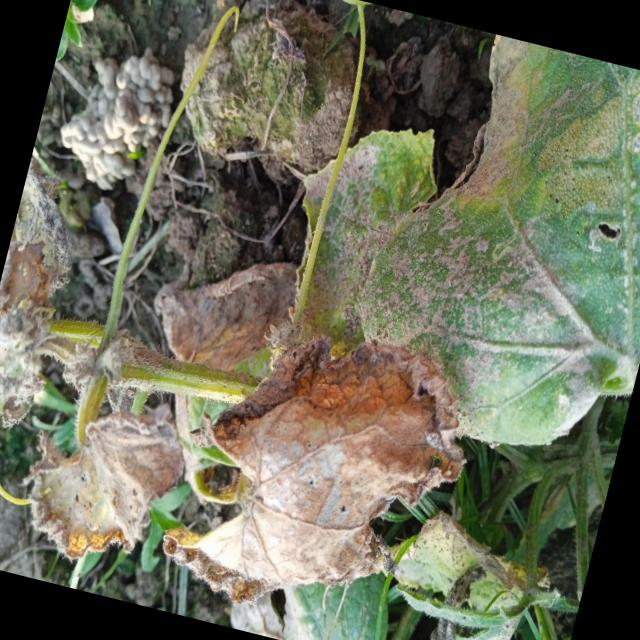cucumber_bacterial: (188, 106, 504, 624), (344, 20, 640, 477), (169, 0, 398, 196), (0, 364, 182, 587), (372, 505, 568, 640)
